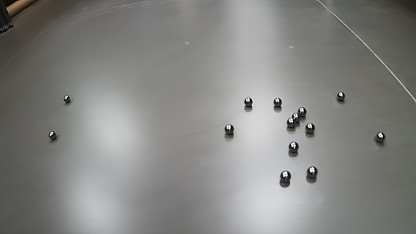ironball: (280, 170, 291, 182), (307, 166, 318, 178), (288, 141, 298, 153), (375, 132, 385, 143), (224, 124, 234, 134), (305, 123, 315, 133), (297, 107, 307, 117), (286, 117, 295, 128), (273, 97, 282, 107), (336, 91, 345, 101), (291, 112, 299, 123), (48, 131, 57, 140), (244, 97, 252, 107), (64, 95, 71, 103), (1, 25, 9, 31), (8, 23, 14, 28)
